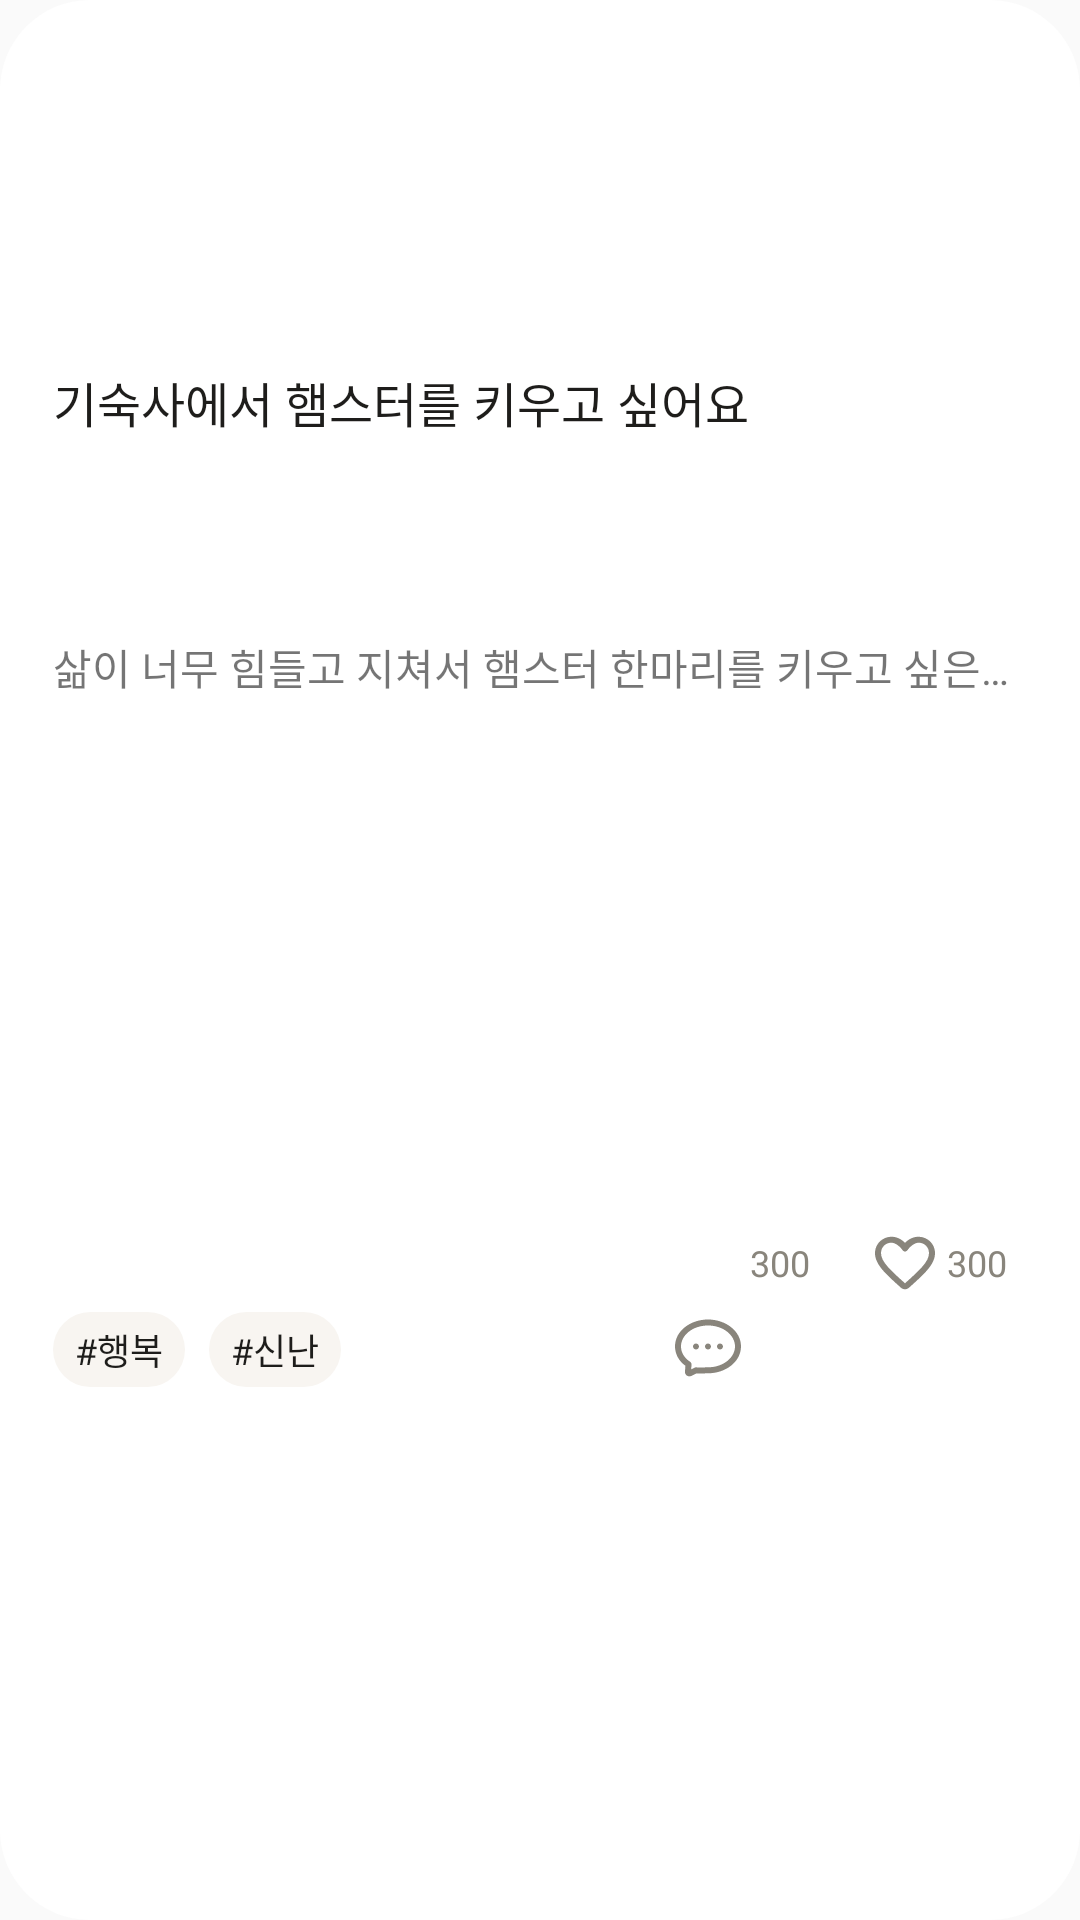

Locate icon controls on the screen. Image size 1080 × 1920, boxes as (x1, y1, x2, y2).
heart: (875, 1236, 935, 1290)
